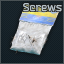Pack of screws: (0, 0, 64, 64)
